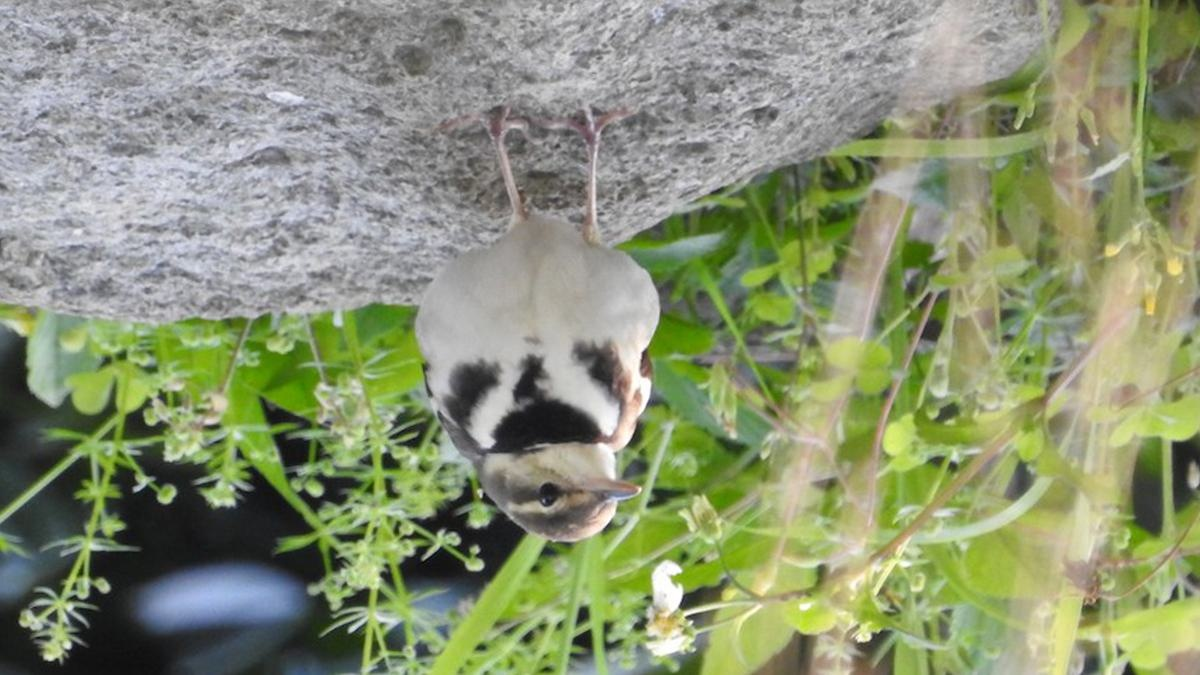wagtail: (405, 114, 688, 573)
